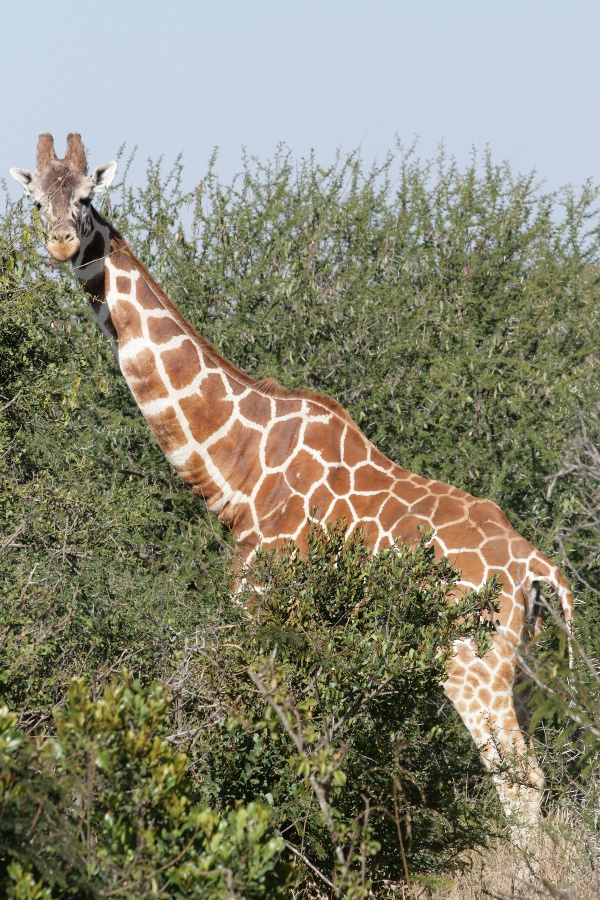giraffe: (3, 116, 580, 822)
